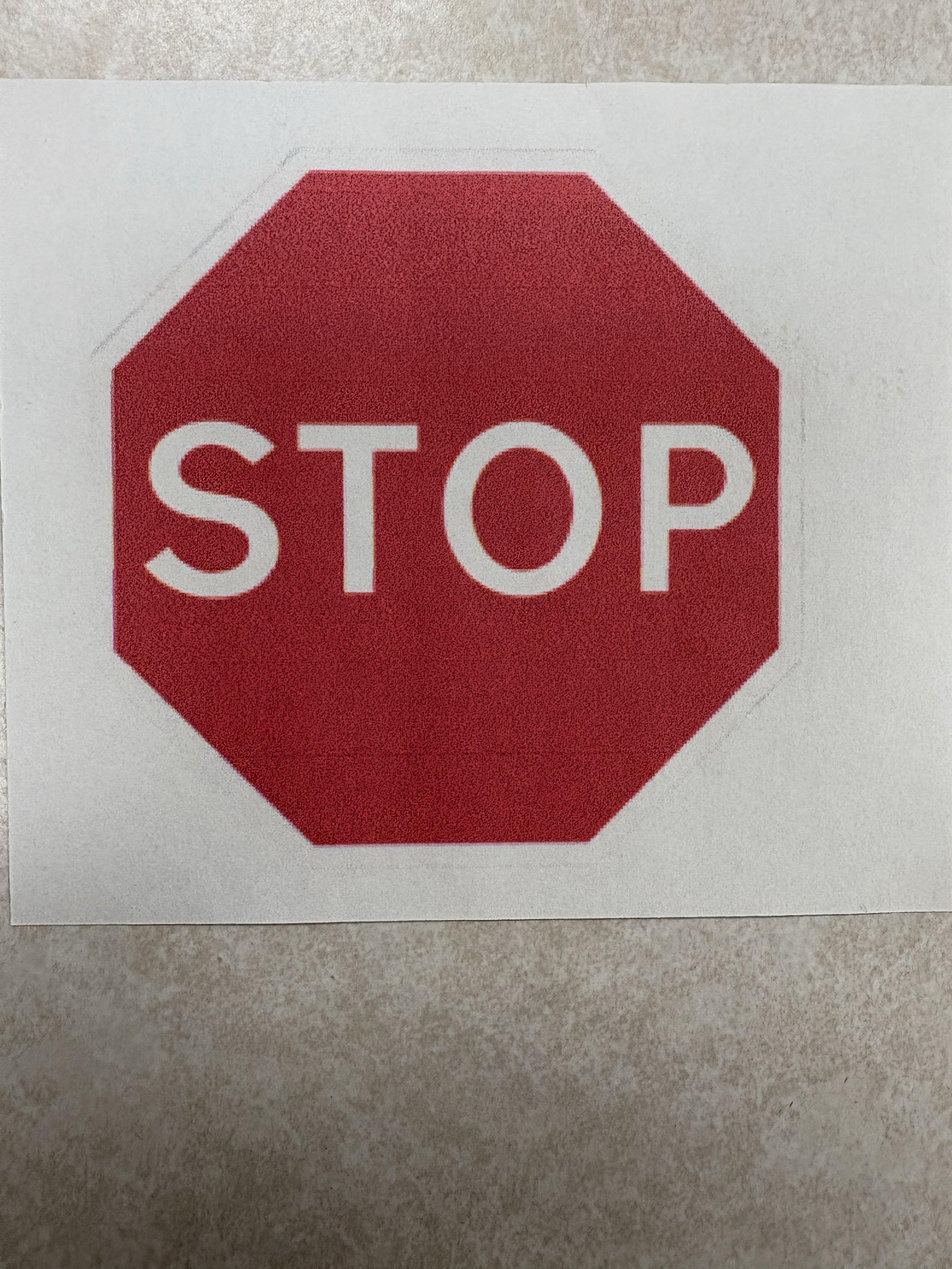Stop: (0, 107, 711, 1219)
